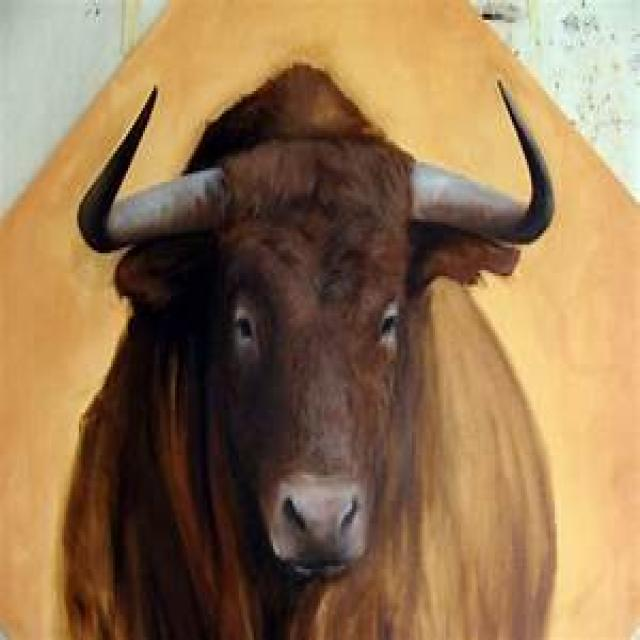cow: (43, 63, 557, 640)
